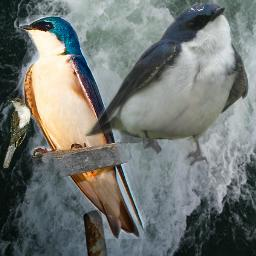Cuckoo: (3, 98, 31, 168)
Swallow: (19, 15, 146, 239), (85, 2, 250, 167)
